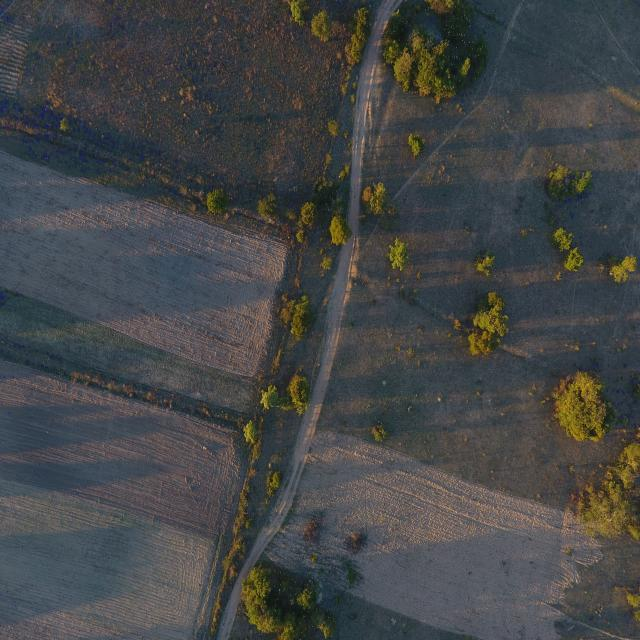boundaries: (15, 106, 293, 244), (25, 334, 235, 436)
